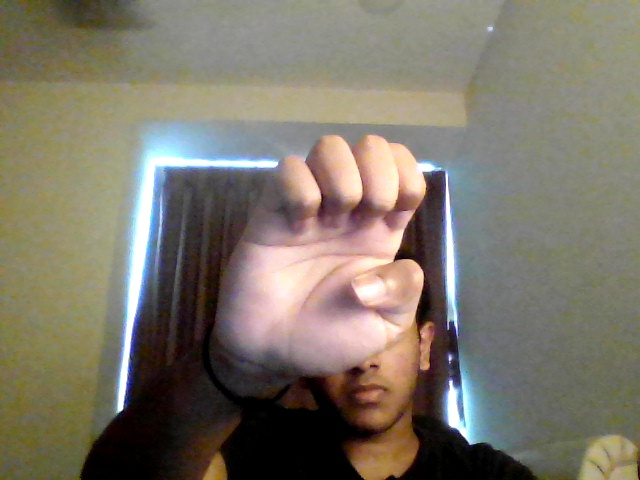E: (214, 133, 428, 369)
